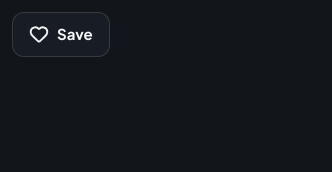
Scenario: WishlistButton › the page variant has a visible label
What coordinates should you click on to do the following:
click the button "Save"
I would click on:
 (61, 34)
Its box is left=12, top=12, right=110, bottom=56.
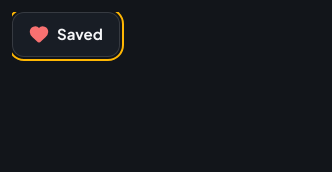
Result: the button "Saved" is pressed at left=12, top=12, right=120, bottom=56
